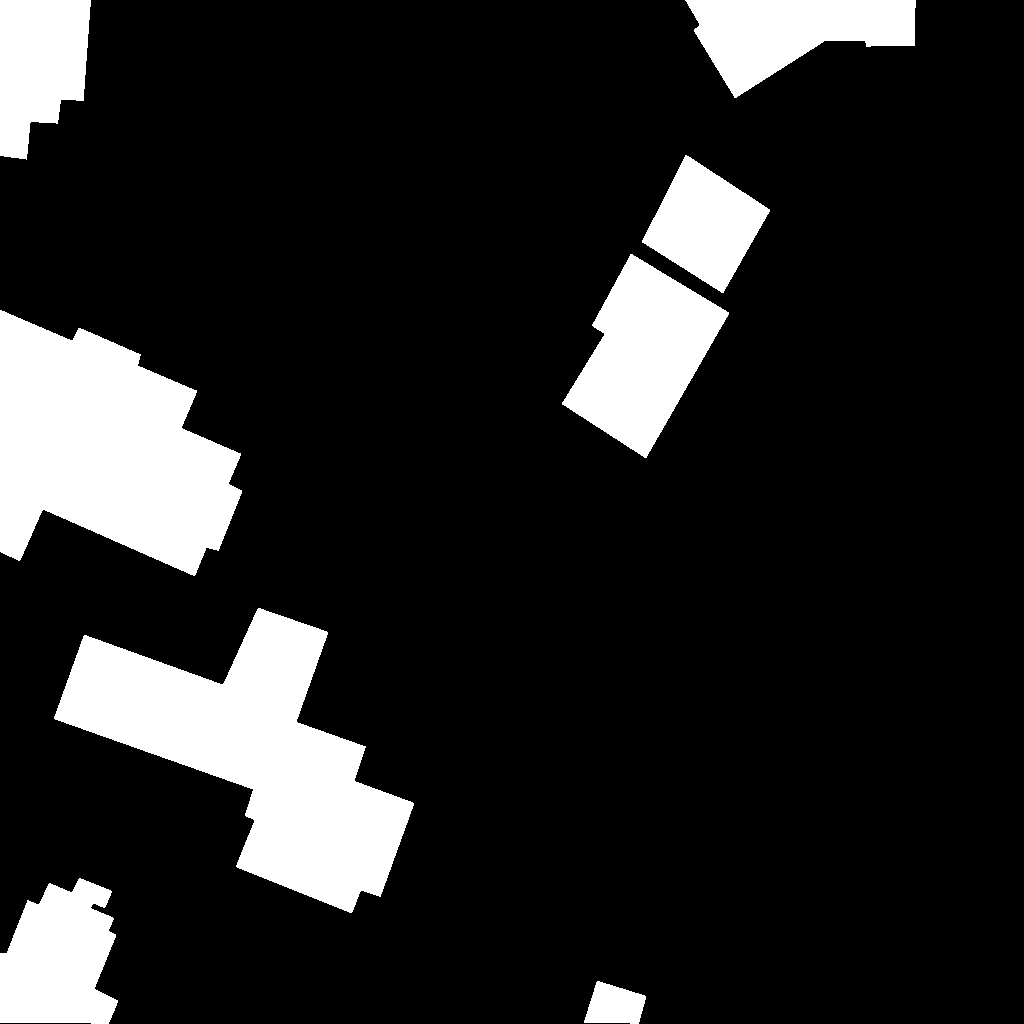building: (54, 608, 415, 914), (0, 310, 243, 577), (562, 254, 730, 459), (685, 0, 916, 99), (642, 155, 771, 294), (0, 878, 119, 1024), (0, 0, 92, 160), (584, 981, 647, 1024)
